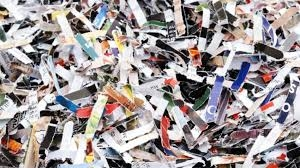paper: (26, 118, 79, 168), (190, 10, 227, 71), (97, 119, 161, 154), (1, 18, 39, 71), (165, 90, 210, 132), (112, 26, 148, 77), (155, 28, 194, 75), (227, 3, 269, 45), (33, 51, 70, 98), (78, 93, 112, 139), (199, 73, 227, 124), (274, 70, 300, 123), (102, 82, 141, 115), (171, 106, 197, 150), (73, 34, 105, 66), (250, 40, 287, 63), (229, 59, 252, 94), (51, 93, 82, 116)
